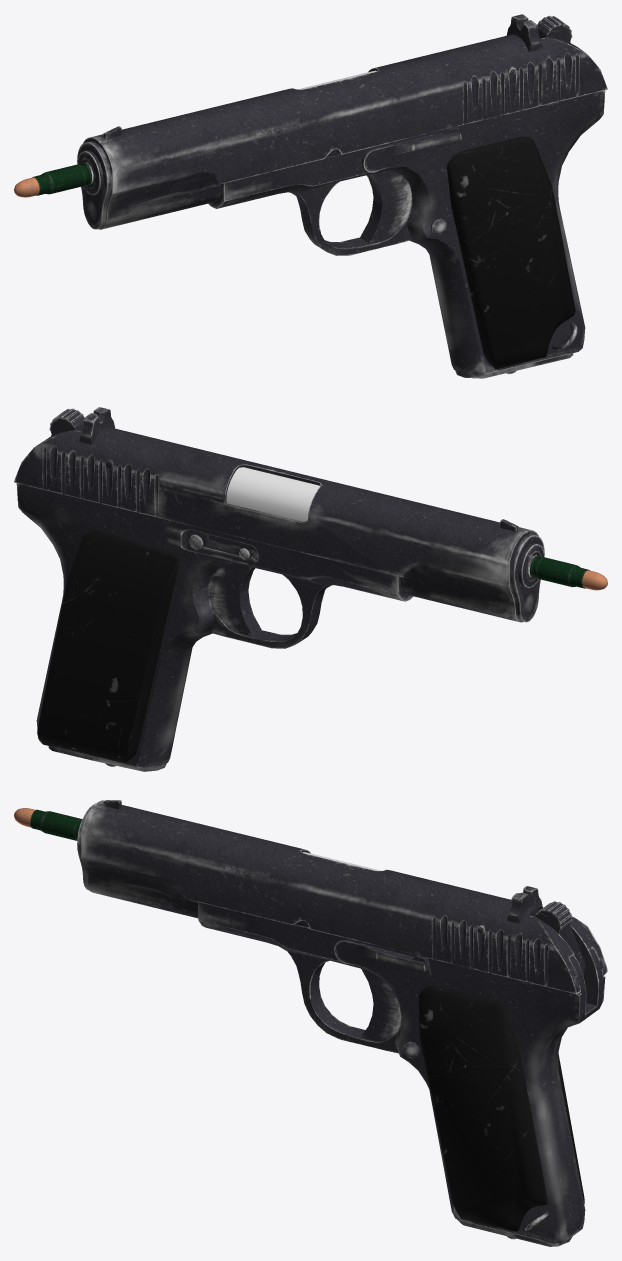
3 views of the same model, one above another, from view 1: azimuth 30°, elevation 25°; view 2: azimuth 150°, elevation 25°; view 3: azimuth 330°, elevation 25° (orthographic).
Parts seen in each view (by area): view 1: perezozadka_lowpoly_18, case_lowpoly_3, nakladka__lowpoly_2, trigger_lowpoly_8, predohranitel_lowpoly_5, bullet_lowpoly_0, Posle_dulo_lowpoly_17, aim_lowpoly_4, firebtn_lowpoly_19, Dulo_circl_lowpoly_16, magazine_lowpoly_12; view 2: perezozadka_lowpoly_18, nakladka__lowpoly_2, case_lowpoly_3, bullet_exit_lowpoly_7, trigger_lowpoly_8, bullet_lowpoly_0, Posle_dulo_lowpoly_17, zacep_lowpoly_10, aim_lowpoly_4, firebtn_lowpoly_19, Dulo_circl_lowpoly_16, magazine_lowpoly_12; view 3: perezozadka_lowpoly_18, case_lowpoly_3, nakladka__lowpoly_2, predohranitel_lowpoly_5, trigger_lowpoly_8, bullet_lowpoly_0, firebtn_lowpoly_19, aim_lowpoly_4.
Boxes of the visible parts, bbox=[...] form: perezozadka_lowpoly_18: bbox=[83, 34, 607, 229]; case_lowpoly_3: bbox=[208, 90, 605, 374]; nakladka__lowpoly_2: bbox=[447, 136, 575, 369]; trigger_lowpoly_8: bbox=[360, 170, 412, 243]; predohranitel_lowpoly_5: bbox=[361, 127, 461, 172]; bullet_lowpoly_0: bbox=[14, 163, 92, 197]; Posle_dulo_lowpoly_17: bbox=[77, 141, 111, 229]; aim_lowpoly_4: bbox=[506, 14, 542, 52]; firebtn_lowpoly_19: bbox=[537, 15, 572, 42]; Dulo_circl_lowpoly_16: bbox=[77, 150, 103, 195]; magazine_lowpoly_12: bbox=[455, 353, 573, 378]; perezozadka_lowpoly_18: bbox=[14, 427, 538, 622]; nakladka__lowpoly_2: bbox=[37, 529, 179, 762]; case_lowpoly_3: bbox=[16, 483, 413, 767]; bullet_exit_lowpoly_7: bbox=[226, 467, 319, 521]; trigger_lowpoly_8: bbox=[209, 563, 261, 636]; bullet_lowpoly_0: bbox=[529, 555, 607, 590]; Posle_dulo_lowpoly_17: bbox=[510, 534, 544, 622]; zacep_lowpoly_10: bbox=[180, 529, 257, 565]; aim_lowpoly_4: bbox=[79, 407, 114, 444]; firebtn_lowpoly_19: bbox=[49, 408, 84, 435]; Dulo_circl_lowpoly_16: bbox=[518, 543, 544, 587]; magazine_lowpoly_12: bbox=[48, 746, 166, 771]; perezozadka_lowpoly_18: bbox=[81, 800, 607, 994]; case_lowpoly_3: bbox=[198, 902, 605, 1243]; nakladka__lowpoly_2: bbox=[418, 986, 584, 1231]; predohranitel_lowpoly_5: bbox=[334, 939, 431, 975]; trigger_lowpoly_8: bbox=[360, 968, 401, 1041]; bullet_lowpoly_0: bbox=[14, 808, 82, 840]; firebtn_lowpoly_19: bbox=[535, 901, 585, 975]; aim_lowpoly_4: bbox=[506, 886, 542, 923].
Size of the model in its own units: 0.2804 by 0.1626 by 0.0355.
Materials: 1 (1 with a texture image).
